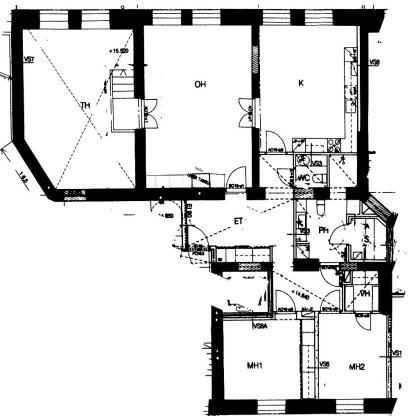door: (261, 129, 296, 160), (134, 97, 160, 135), (273, 287, 302, 321), (223, 163, 250, 198), (235, 96, 262, 131), (185, 223, 214, 250), (318, 259, 343, 289), (317, 289, 344, 316), (349, 311, 378, 332), (328, 221, 352, 246)
window: (37, 6, 72, 36), (189, 4, 226, 30), (79, 6, 112, 34), (148, 6, 186, 30), (258, 7, 296, 30), (302, 4, 336, 28), (333, 396, 369, 416), (254, 396, 290, 416)
